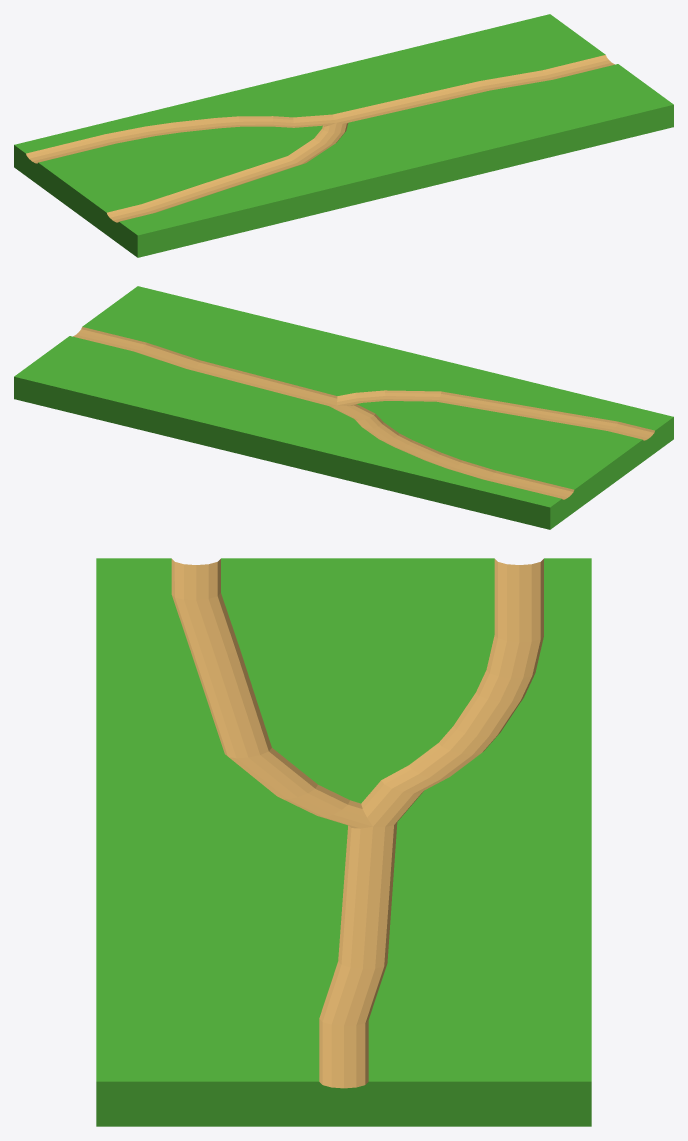
The model's file is way5.fbx.
3 renders of one model, top to bottom at view 1: azimuth 30°, elevation 25°; view 2: azimuth 150°, elevation 25°; view 3: azimuth 270°, elevation 25°, orthographic. The views are drawn at different scales.
Visible parts, largest first — view 1: ground.005; view 2: ground.005; view 3: ground.005.
Part boxes in pixels (x1,y1,x2,y2): ground.005: (14, 14, 673, 257); ground.005: (14, 286, 673, 529); ground.005: (96, 558, 591, 1126).
Bounding box in the file's own units: 5000 × 200 × 2000.
